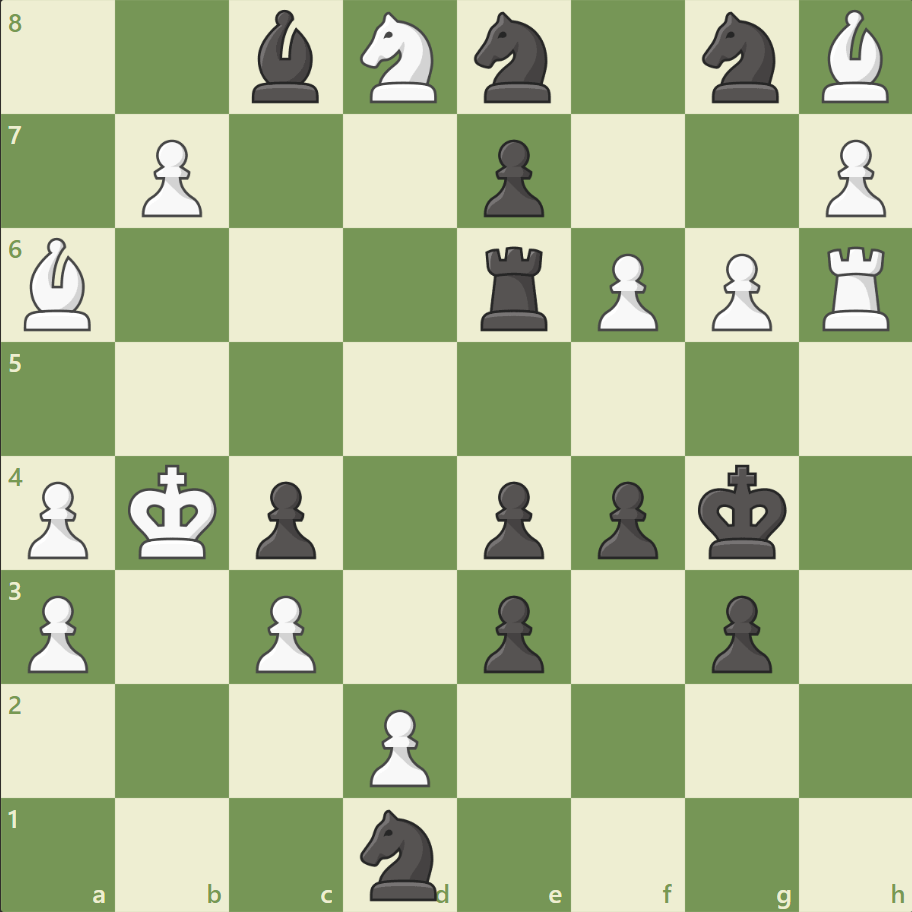B: (812, 6, 896, 109), (17, 233, 101, 336)
K: (124, 458, 224, 566)
N: (351, 7, 449, 110)
P: (133, 132, 208, 223), (701, 246, 776, 337), (20, 473, 95, 564), (20, 586, 95, 677), (247, 586, 322, 677), (815, 132, 889, 223), (588, 246, 662, 337), (361, 700, 435, 791)
R: (814, 239, 897, 336)
b: (244, 6, 328, 109)
k: (692, 458, 792, 566)
n: (351, 802, 449, 904), (465, 7, 562, 110), (692, 7, 789, 110)
p: (474, 132, 549, 223), (247, 473, 322, 564), (474, 473, 549, 564), (474, 586, 549, 677), (701, 586, 776, 677), (588, 473, 662, 564)
r: (473, 239, 556, 336)
